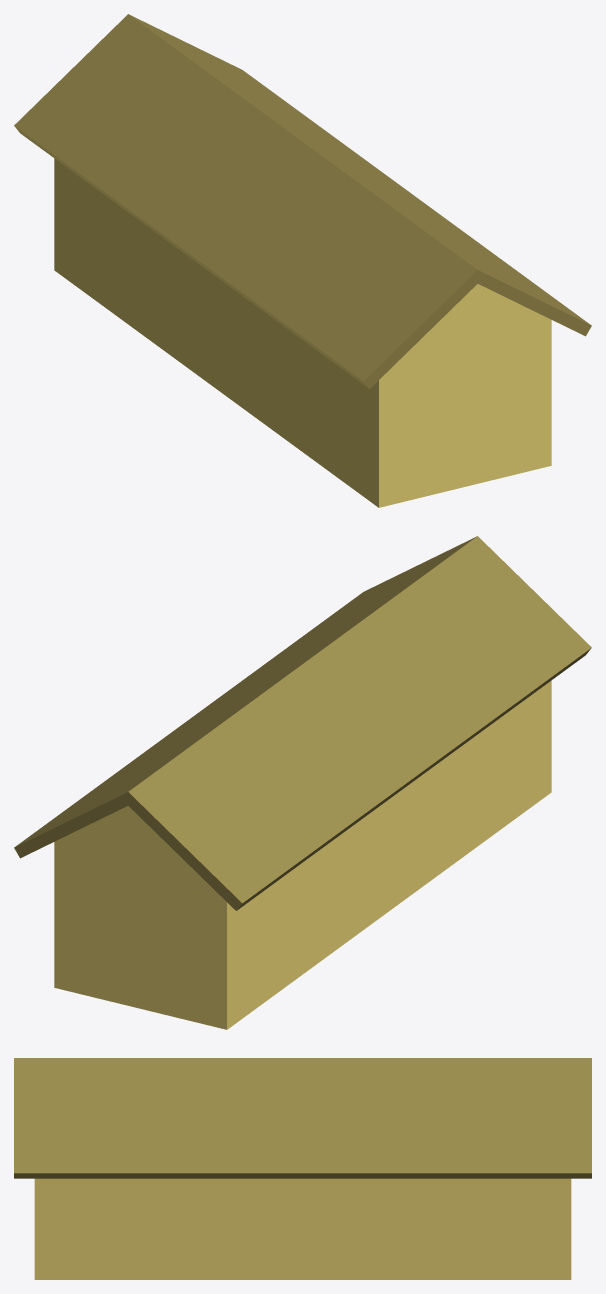
Rendered from result.glb.
3 views of the same model, one above another, from view 1: azimuth 30°, elevation 25°; view 2: azimuth 150°, elevation 25°; view 3: azimuth 270°, elevation 25° (orthographic). The views are drawn at different scales.
Parts seen in each view (by area): view 1: 93e4d2a1-8e59-4f62-9f8f-dfa2b8b17ba9__undefined (×2), 8b012cbd-e3f2-4ef3-b313-2a2e99fbacea__undefined; view 2: 93e4d2a1-8e59-4f62-9f8f-dfa2b8b17ba9__undefined (×2), 8b012cbd-e3f2-4ef3-b313-2a2e99fbacea__undefined; view 3: 93e4d2a1-8e59-4f62-9f8f-dfa2b8b17ba9__undefined, 8b012cbd-e3f2-4ef3-b313-2a2e99fbacea__undefined.
Boxes of the visible parts, x1,y1,x2,y2 form: 93e4d2a1-8e59-4f62-9f8f-dfa2b8b17ba9__undefined (×2): (14, 14, 591, 388); 8b012cbd-e3f2-4ef3-b313-2a2e99fbacea__undefined: (54, 158, 551, 507); 93e4d2a1-8e59-4f62-9f8f-dfa2b8b17ba9__undefined (×2): (14, 536, 591, 910); 8b012cbd-e3f2-4ef3-b313-2a2e99fbacea__undefined: (54, 680, 551, 1029); 93e4d2a1-8e59-4f62-9f8f-dfa2b8b17ba9__undefined: (14, 1058, 591, 1178); 8b012cbd-e3f2-4ef3-b313-2a2e99fbacea__undefined: (34, 1178, 571, 1279).
Bounding box in the file's own units: 529 × 500 × 1401.
